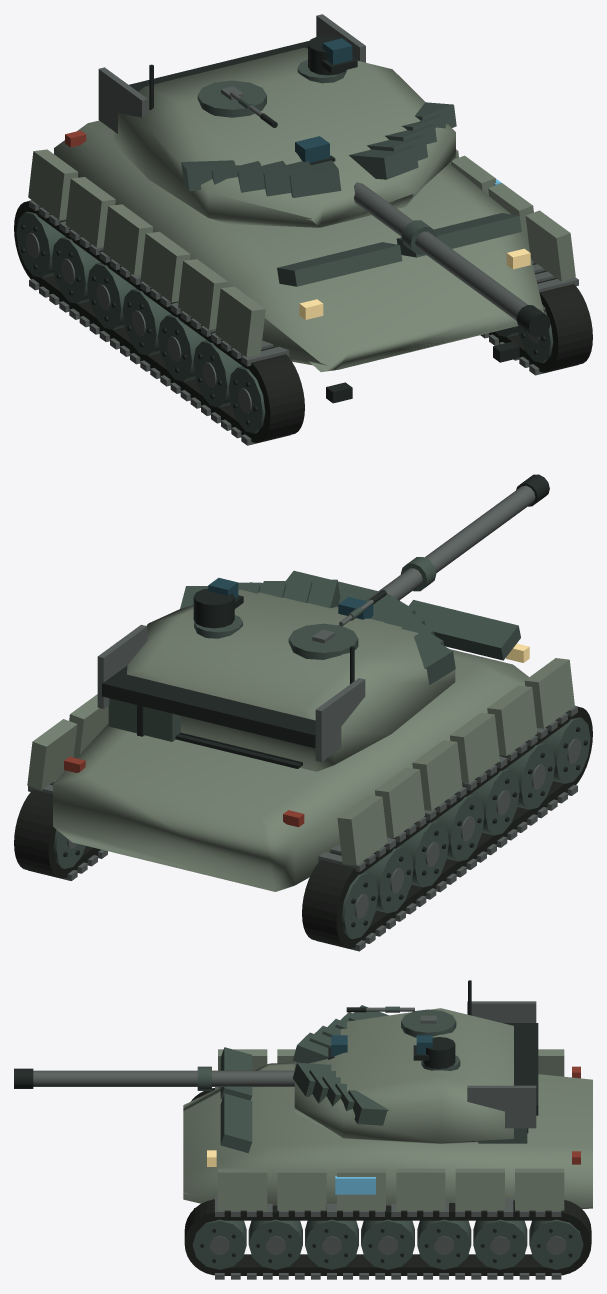
The model's file is tank.glb.
3 renders of one model, top to bottom at view 1: azimuth 30°, elevation 25°; view 2: azimuth 150°, elevation 25°; view 3: azimuth 270°, elevation 25°, orthographic. The views are drawn at different scales.
Parts seen in each view (by area): view 1: armor (×2), trim (×3), steel (×3), rubber, dark (×3), glass, lamp; view 2: armor (×2), trim (×2), steel (×3), rubber, dark (×2), stowage, glass; view 3: armor (×2), trim (×2), steel (×3), rubber, dark (×3), marking, glass.
Part boxes in pixels (x1,y1,x2,y2): armor (×2): (28,47,575,372); trim (×3): (16,59,553,433); steel (×3): (25,14,578,445); rubber: (14,201,592,442); dark (×3): (21,35,550,424); glass: (295,38,352,162); lamp: (299,248,530,319); armor (×2): (27,582,574,891); trim (×2): (53,570,590,939); steel (×3): (28,485,581,951); rubber: (14,706,592,948); dark (×2): (63,588,587,927); stowage: (108,698,180,741); glass: (208,578,373,619); armor (×2): (183,1008,592,1210); trim (×2): (192,1005,583,1269); steel (×3): (33,1001,566,1279); rubber: (184,1088,591,1275); dark (×3): (14,980,572,1262); marking: (335,1176,375,1194); glass: (331,1035,432,1056).
Size of the model in its own units: 3.76 by 2.7 by 7.14.
